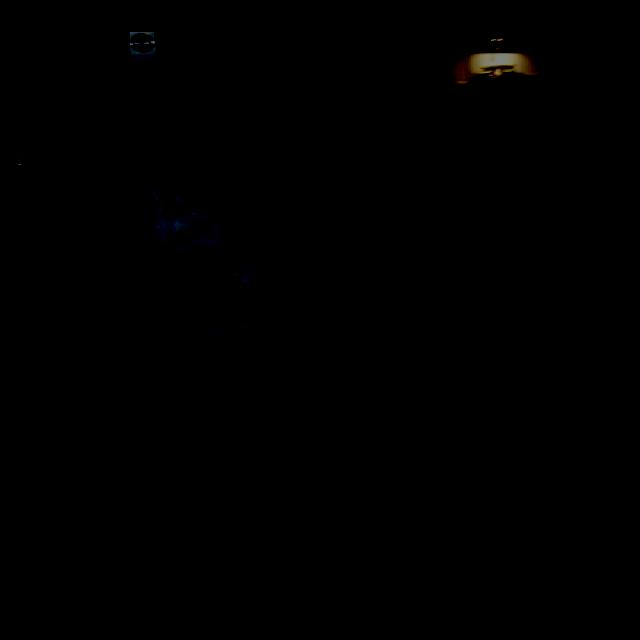Dog: (93, 132, 537, 532), (453, 111, 622, 322)
